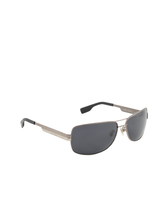glasses: (19, 101, 155, 152)
